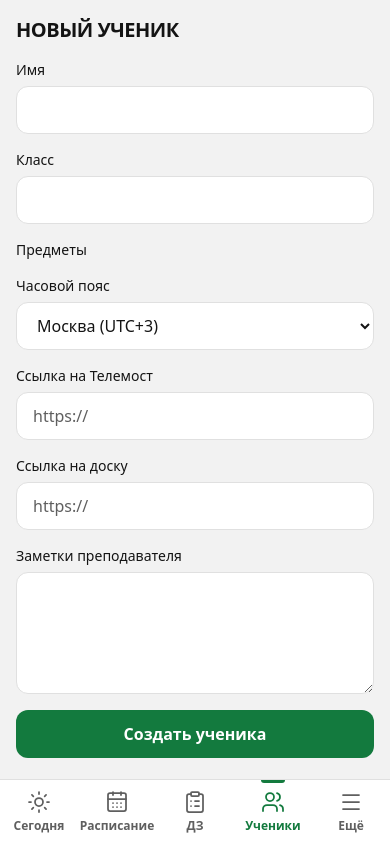
Scenario: Ученик: карточка и форма › невалидные данные не отправляются, ошибки показаны
Click the button "Создать ученика".
click(195, 734)  # box [16,710,374,758]
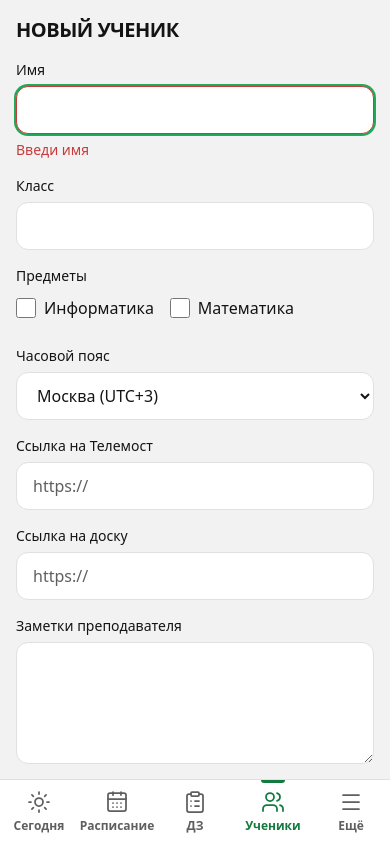
Expected: the text "Введи имя" is shown, [16,140,89,159]
